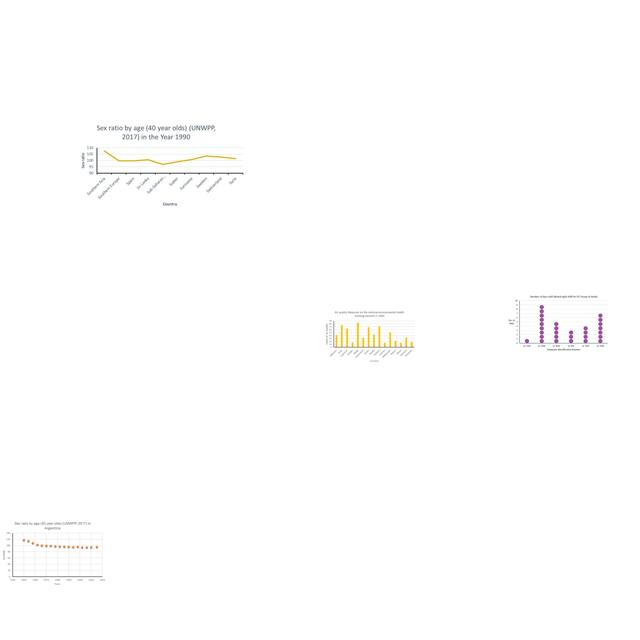Graph: (77, 122, 245, 208), (0, 520, 107, 587), (505, 294, 610, 353), (323, 309, 416, 363)
